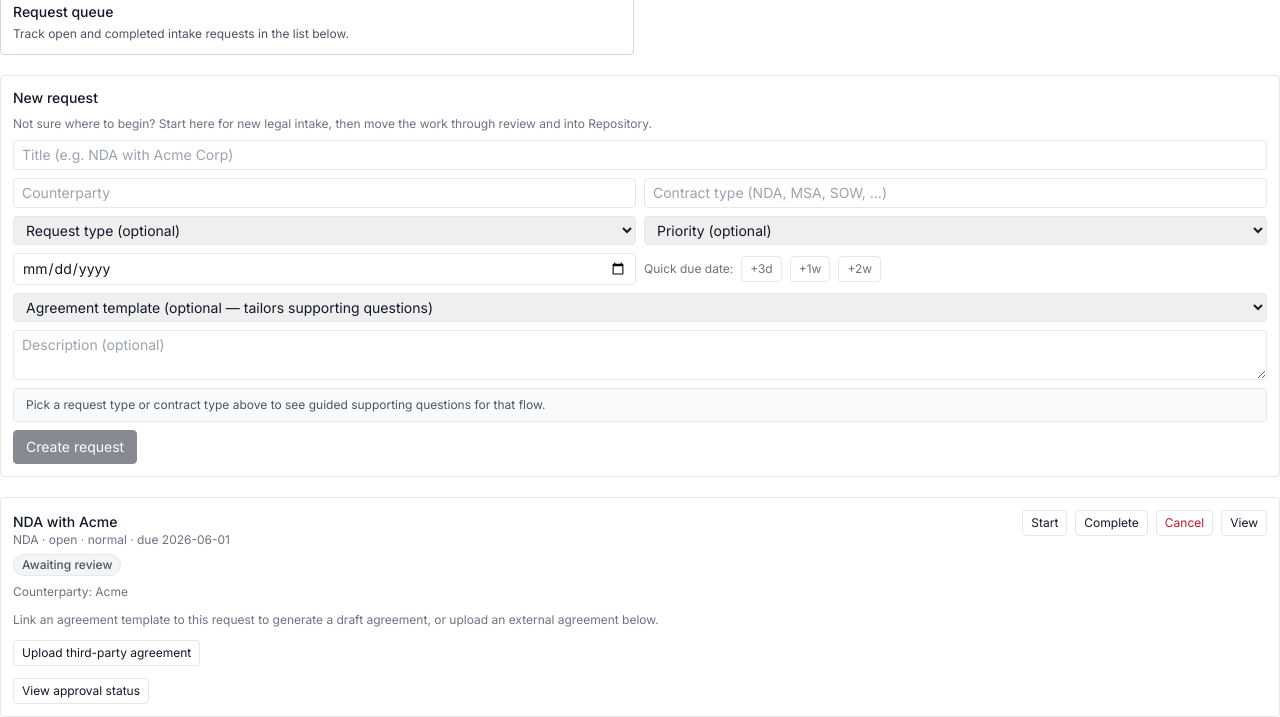
Scenario: RequestsPage › renders an active workflow with the current step
(page scrolled)
Expected: the link "NDA with Acme" is shown, x1=13 y1=513 x2=118 y2=530
Step 1. Click the button with test id "request-approval-toggle" → {"x": 81, "y": 691}, box x1=13 y1=678 x2=149 y2=704
(page scrolled)
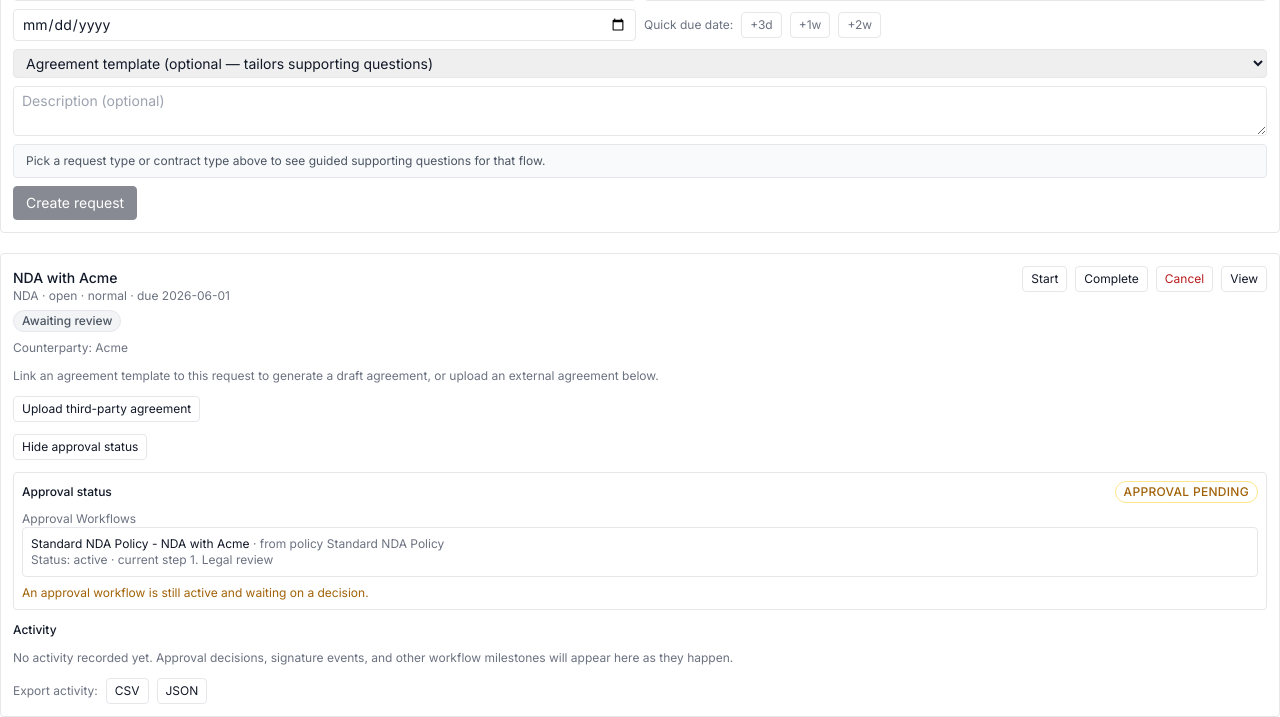
Now the text with test id "request-approval-current-step" reads "1. Legal review", box x1=190 y1=552 x2=273 y2=567
Now the text with test id "request-approval-workflow-status" reads "active", box x1=74 y1=552 x2=108 y2=567
Now the text "Approval pending" is shown, box x1=1115 y1=481 x2=1258 y2=503
